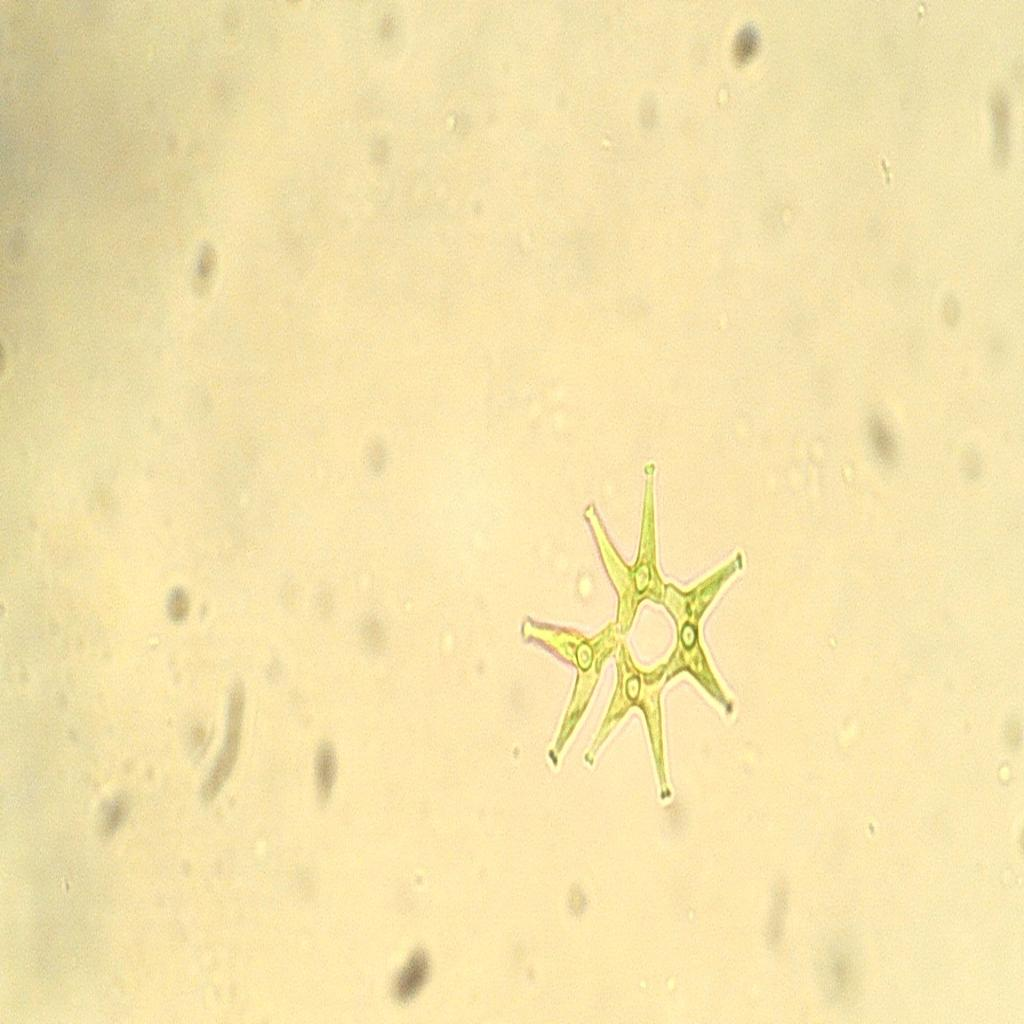Pediastrum_75FI: (516, 454, 756, 826)
